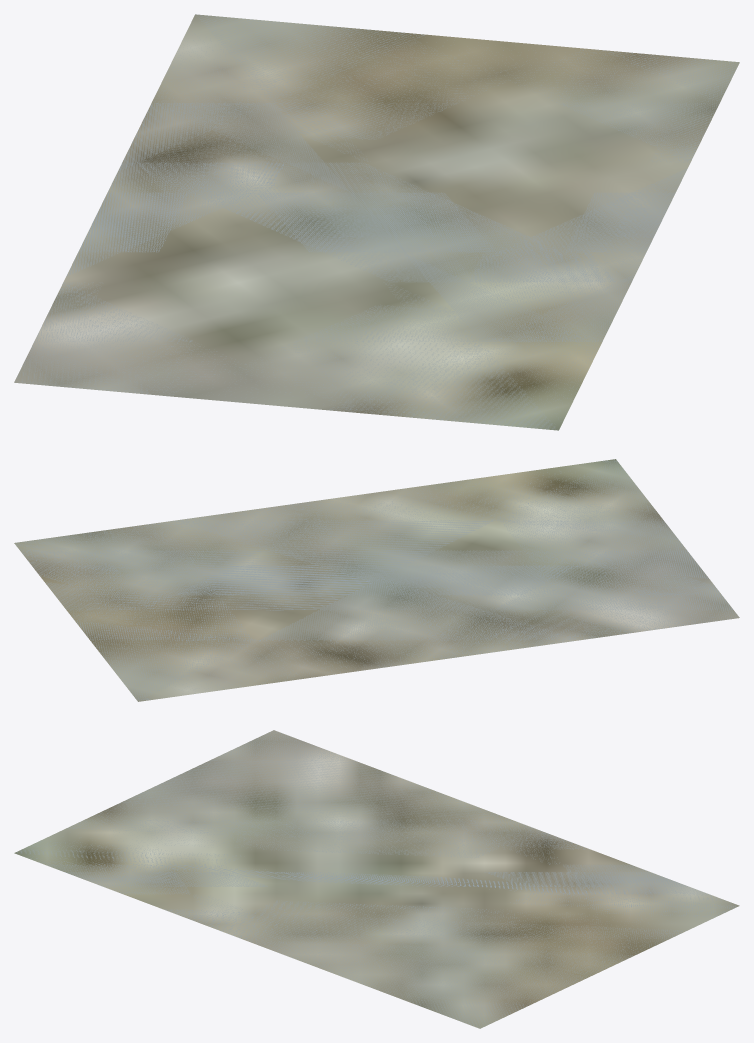
Rendered from 西庸城堡495.dae.
3 views of the same model, one above another, from view 1: azimuth 30°, elevation 25°; view 2: azimuth 150°, elevation 25°; view 3: azimuth 270°, elevation 25° (orthographic). The views are drawn at different scales.
Visible parts, largest first — view 1: SketchUp; view 2: SketchUp; view 3: SketchUp.
Part boxes in pixels (box(x1,y1,x2,y2)): SketchUp: box(14, 14, 739, 430); SketchUp: box(14, 459, 739, 701); SketchUp: box(14, 730, 739, 1028).
Bounding box in the file's own units: 53.49 × 54.91 × 0.
